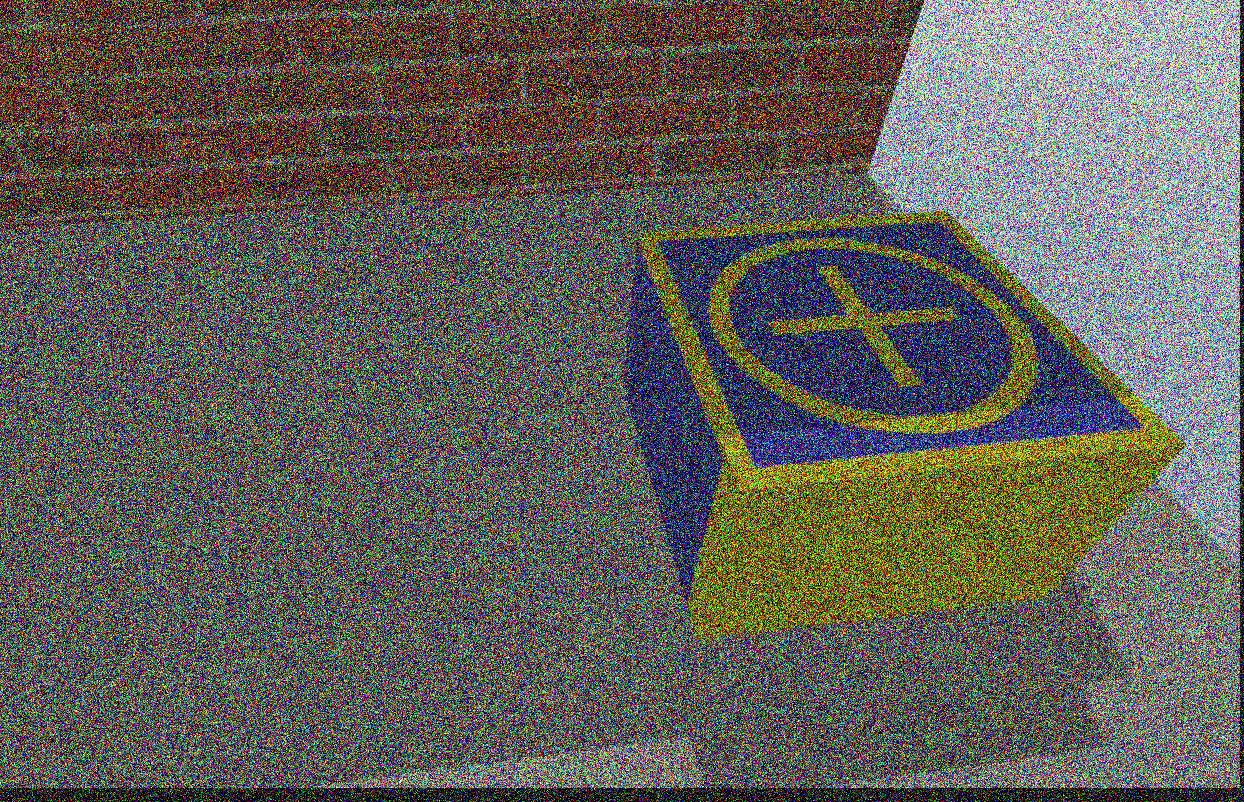small_base: (629, 216, 1188, 492)
